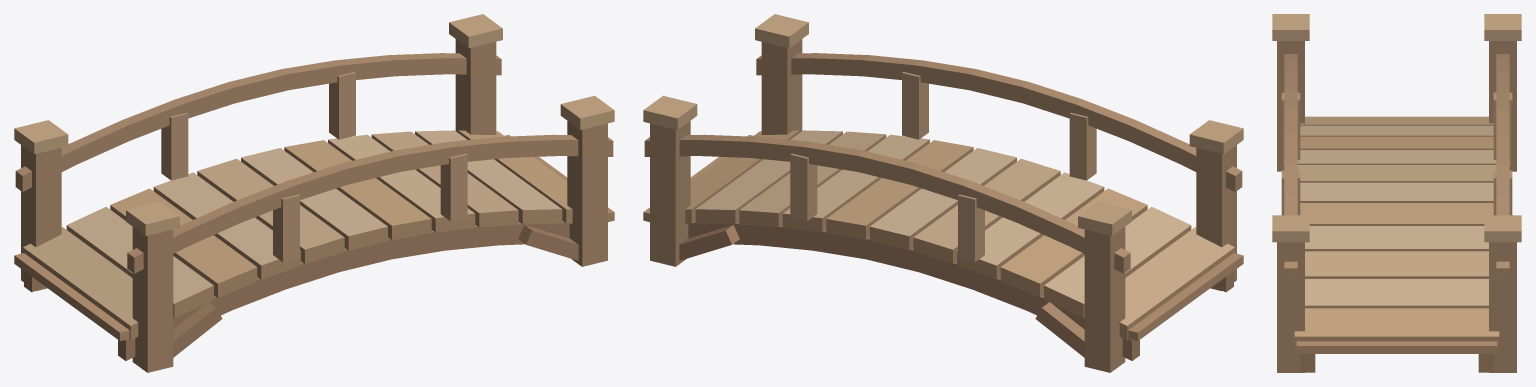
The picture shows the model from 3 angles, left to right: view 1: azimuth 30°, elevation 25°; view 2: azimuth 150°, elevation 25°; view 3: azimuth 270°, elevation 25°; orthographic projection. The views are drawn at different scales.
Visible parts, largest first — view 1: world; view 2: world; view 3: world.
Boxes of the visible parts, <box> form: world: <box>14,14,614,372</box>; world: <box>643,14,1243,372</box>; world: <box>1272,14,1521,372</box>.
Bounding box in the file's own units: 5.78 × 1.71 × 2.66.
